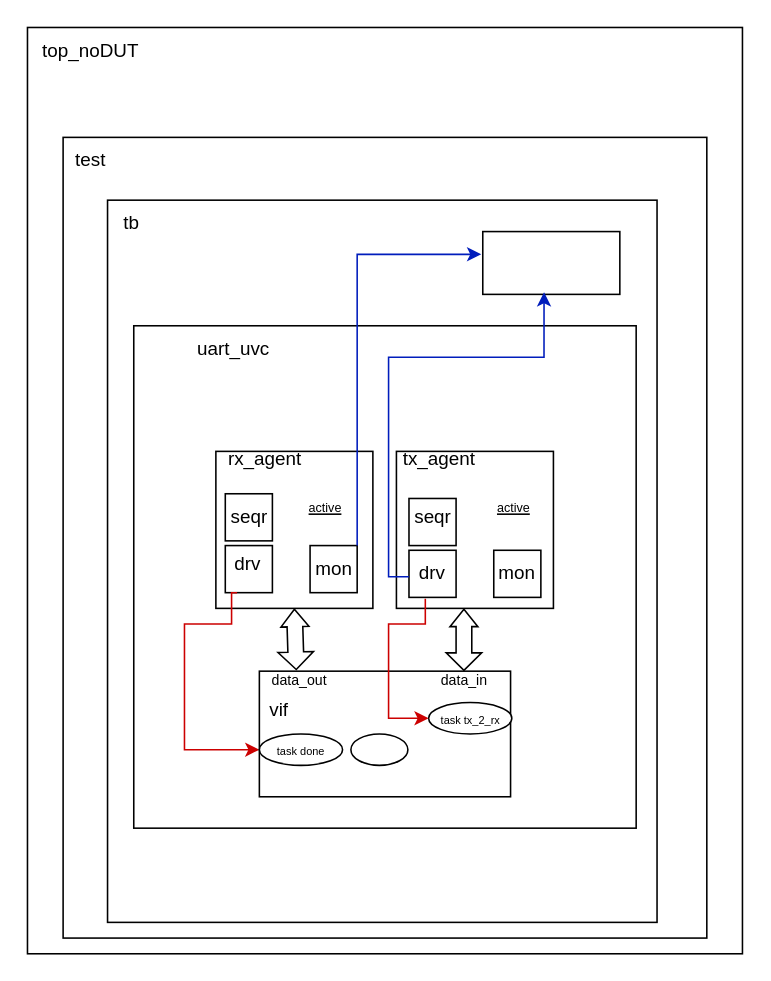
This 771x981 diagram has some shape labels left out. The shapes that lost their labels are listed below. From the top down, each one's box as (x1, y1, x2, y2) in pixels, then its label:
(481, 230, 620, 294): scb
(349, 732, 408, 765): Bud rate
